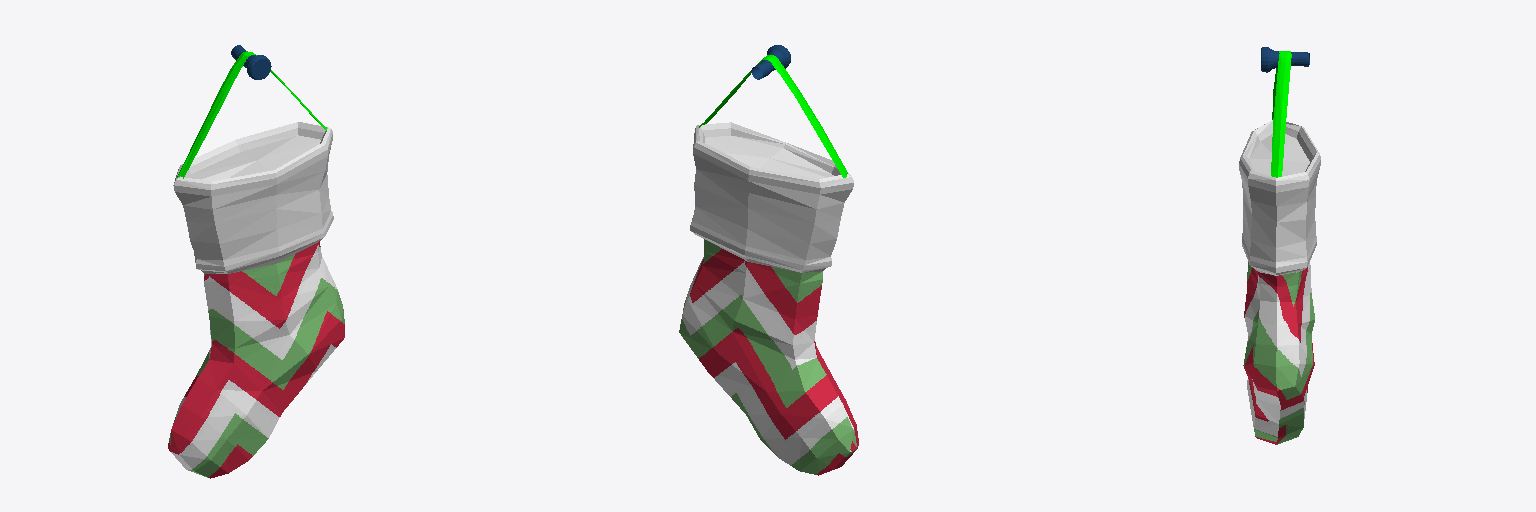
3 views of the same model, side by side, from view 1: azimuth 30°, elevation 25°; view 2: azimuth 150°, elevation 25°; view 3: azimuth 270°, elevation 25° (orthographic).
Visible parts, largest first — view 1: tela_Noel_Sock_2020.010; view 2: tela_Noel_Sock_2020.010; view 3: tela_Noel_Sock_2020.010.
Part boxes in pixels (bbox=[...]): tela_Noel_Sock_2020.010: bbox=[168, 45, 344, 478]; tela_Noel_Sock_2020.010: bbox=[679, 45, 858, 475]; tela_Noel_Sock_2020.010: bbox=[1239, 47, 1320, 444].
Size of the model in its own units: 0.1238 by 0.2785 by 0.0502.
4 materials, 4 textured.